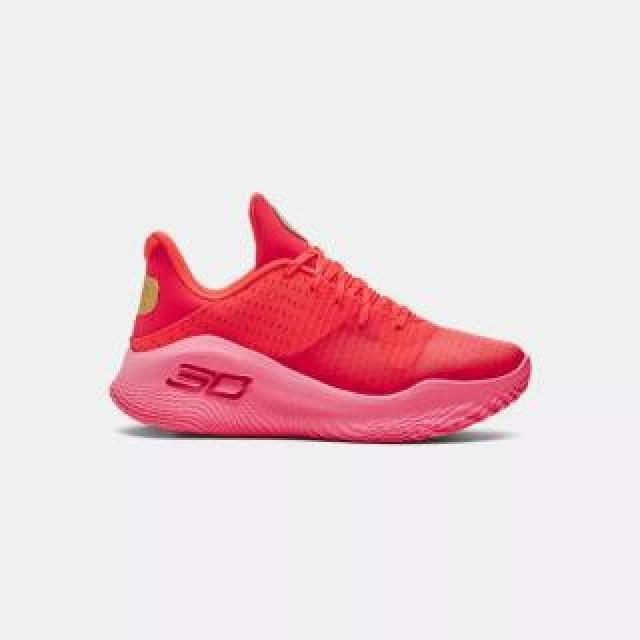shoes: (111, 195, 533, 445)
